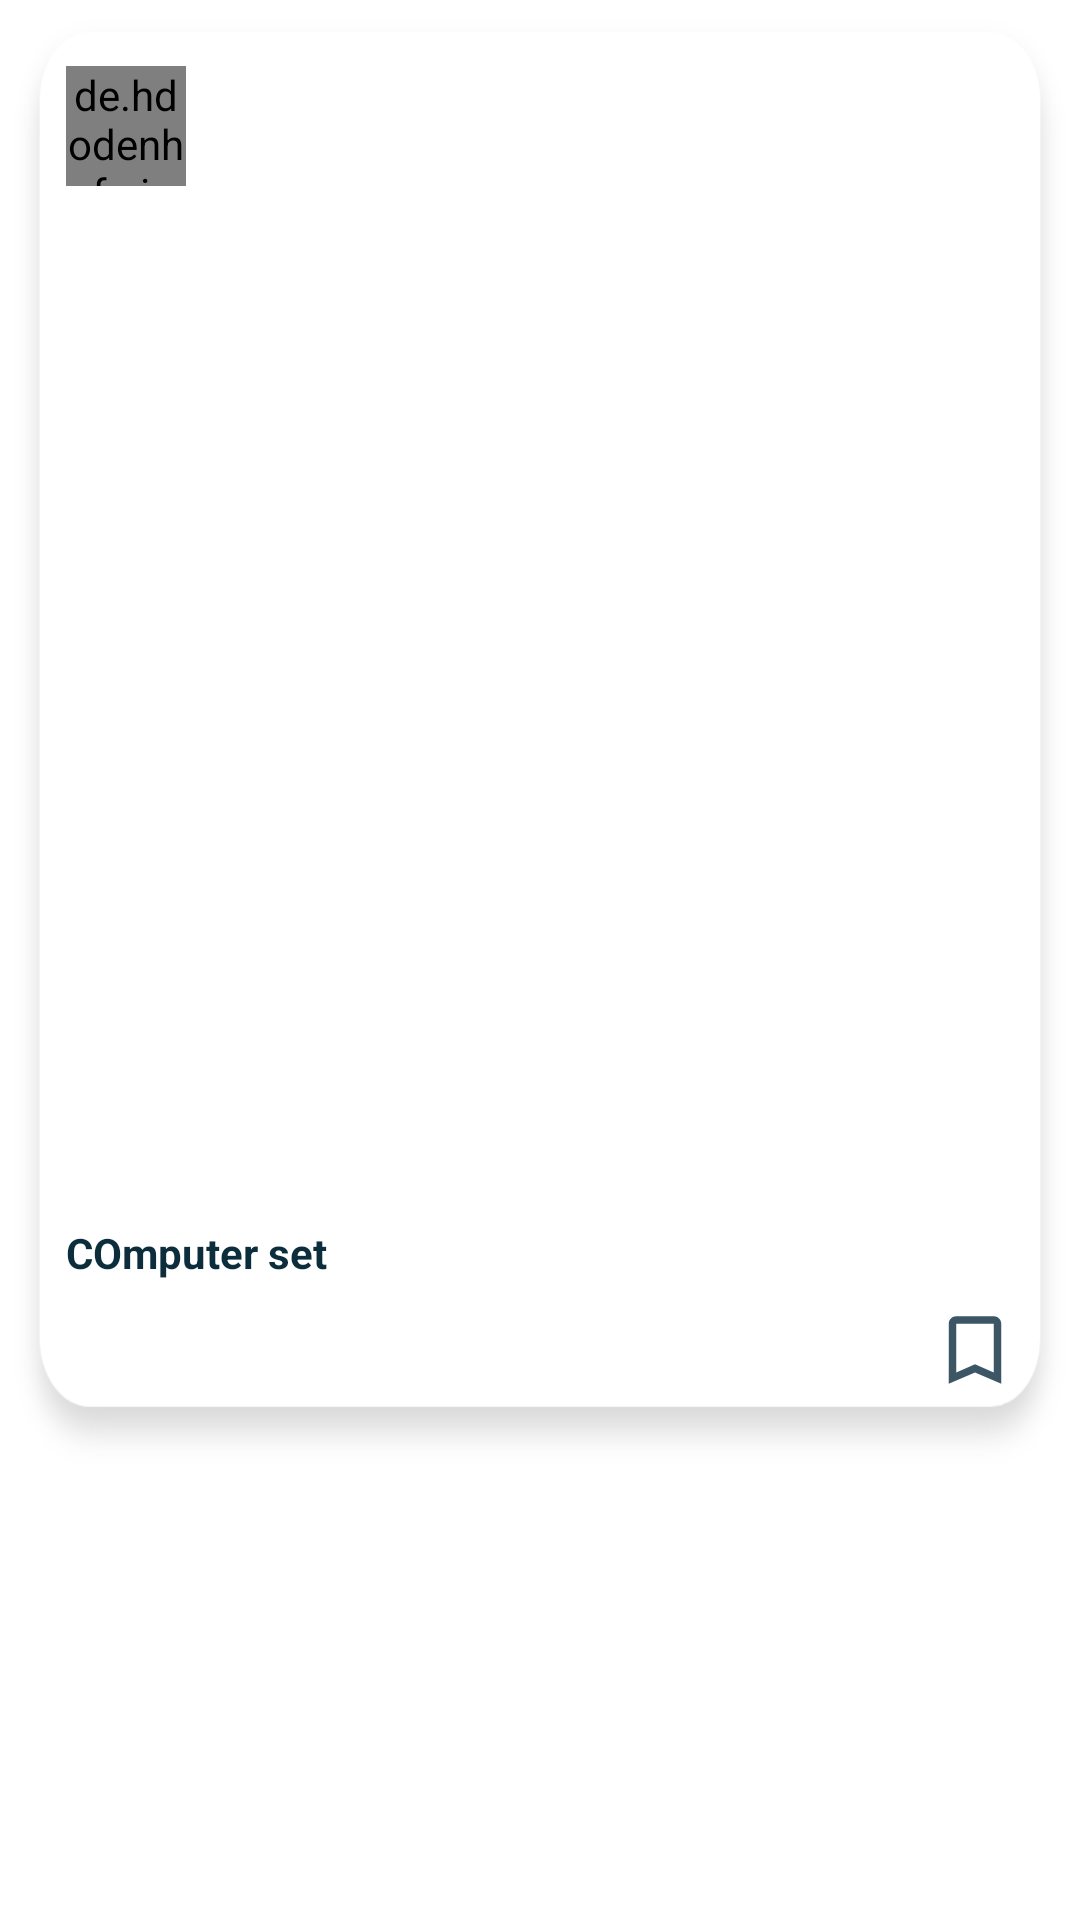

Point at icon controls on the screen. Image size 1080w x 1920h, points as (x=x, y=y).
save: (x=975, y=1350)
